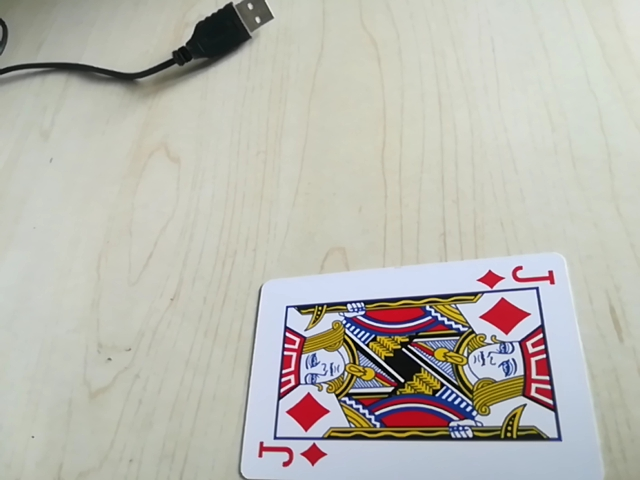fk j: (256, 438, 327, 474), (475, 262, 558, 292)
